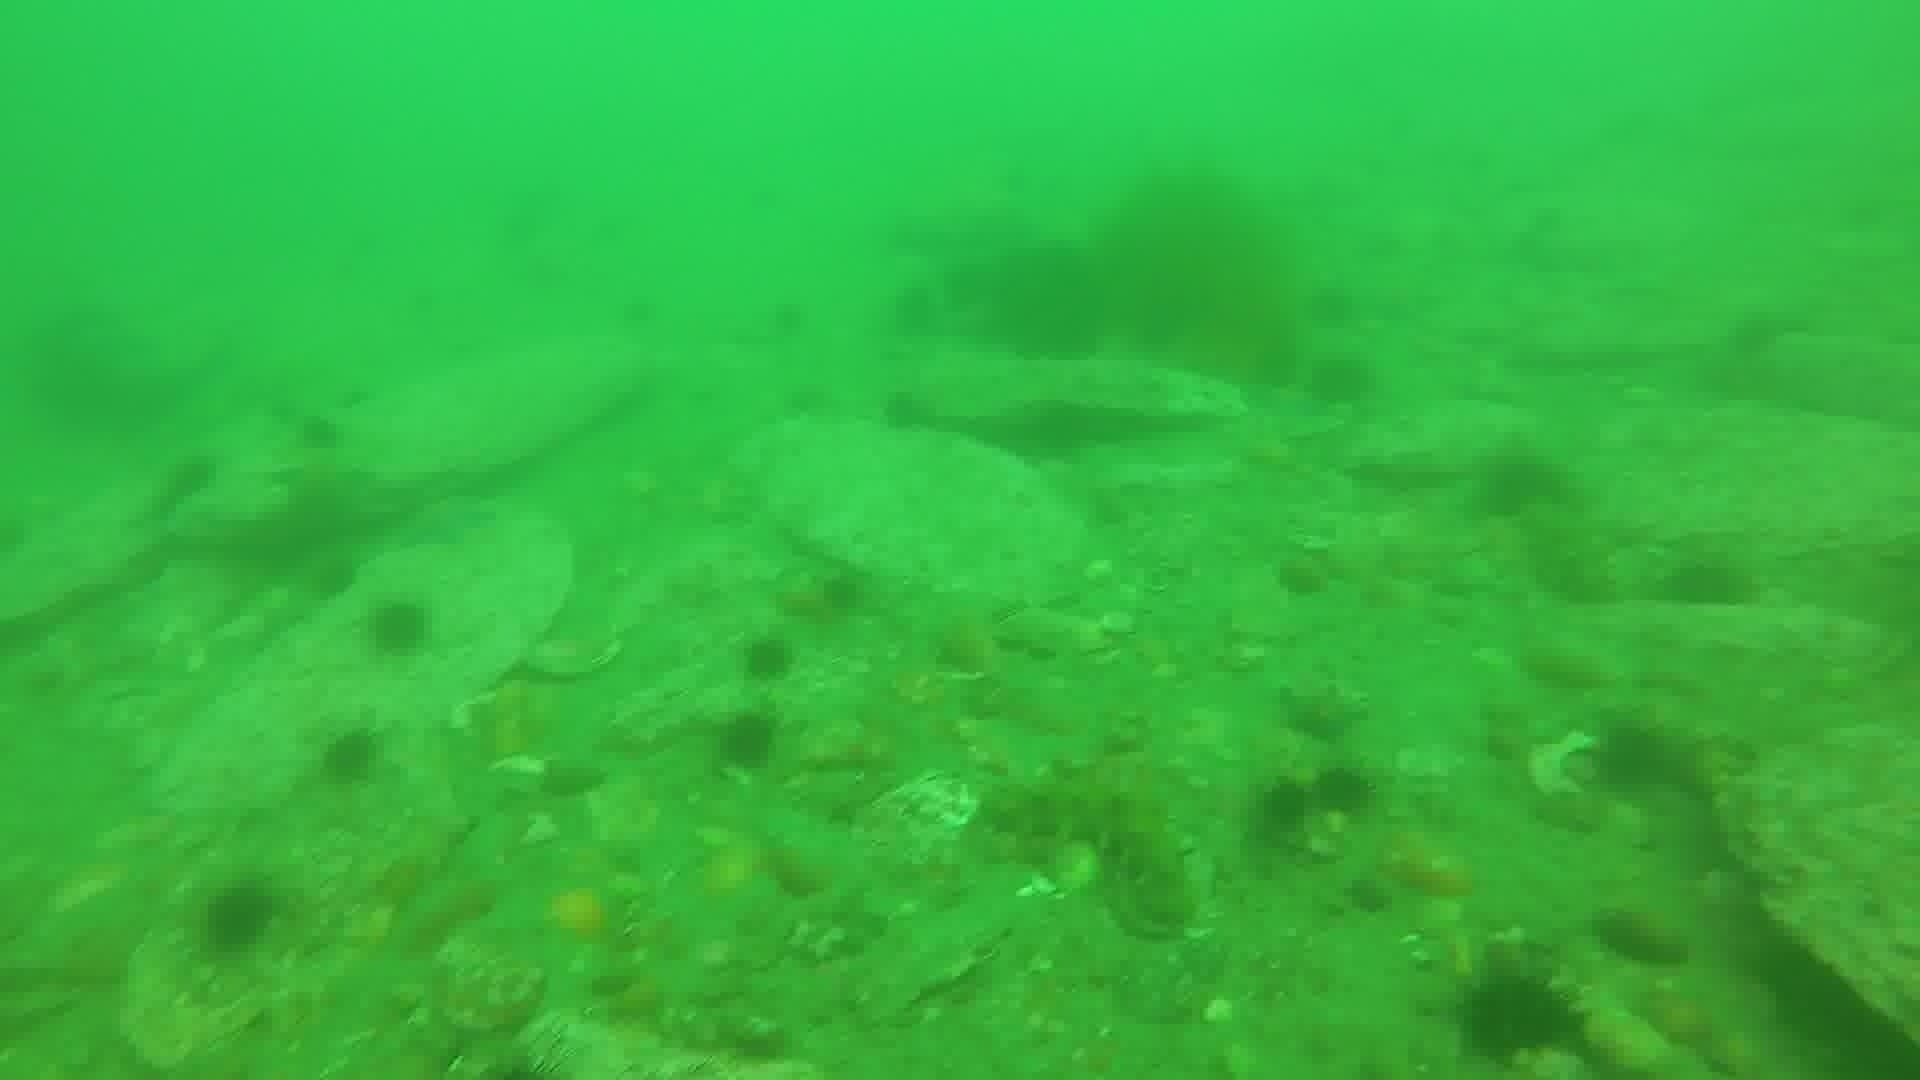echinus: (1452, 965, 1588, 1068), (1586, 716, 1680, 800), (1470, 446, 1571, 524), (194, 877, 281, 959), (1658, 550, 1758, 617), (1247, 773, 1321, 844), (361, 593, 436, 661), (712, 708, 783, 775), (1305, 761, 1379, 825), (315, 724, 386, 790), (1302, 349, 1375, 411), (807, 564, 872, 624), (301, 547, 364, 607), (735, 630, 800, 687), (877, 385, 936, 439), (781, 375, 840, 429), (760, 291, 819, 345), (166, 458, 225, 512), (1302, 281, 1361, 335), (1725, 310, 1784, 364), (887, 281, 945, 335), (290, 409, 347, 456)
holothurian: (982, 769, 1205, 934)
starfish: (1274, 676, 1370, 746), (397, 491, 500, 553)
